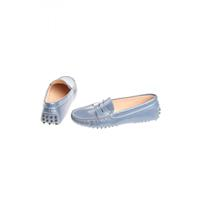shoe: (71, 94, 160, 126), (41, 76, 76, 124)
